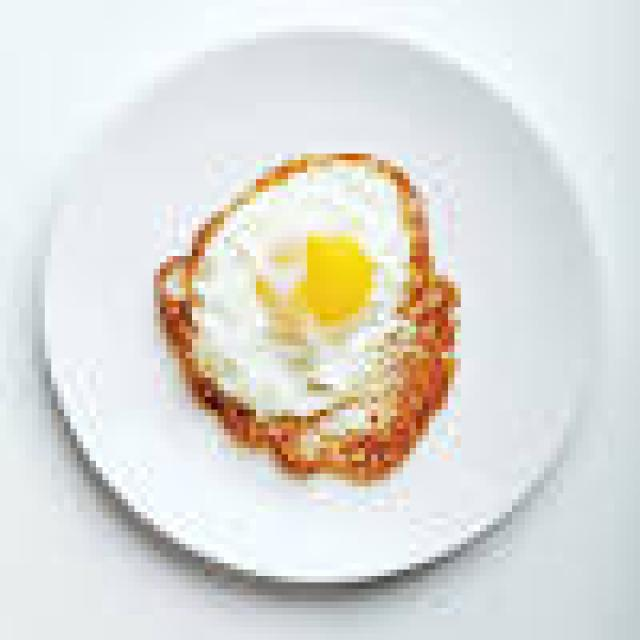Egg: (155, 154, 459, 478)
